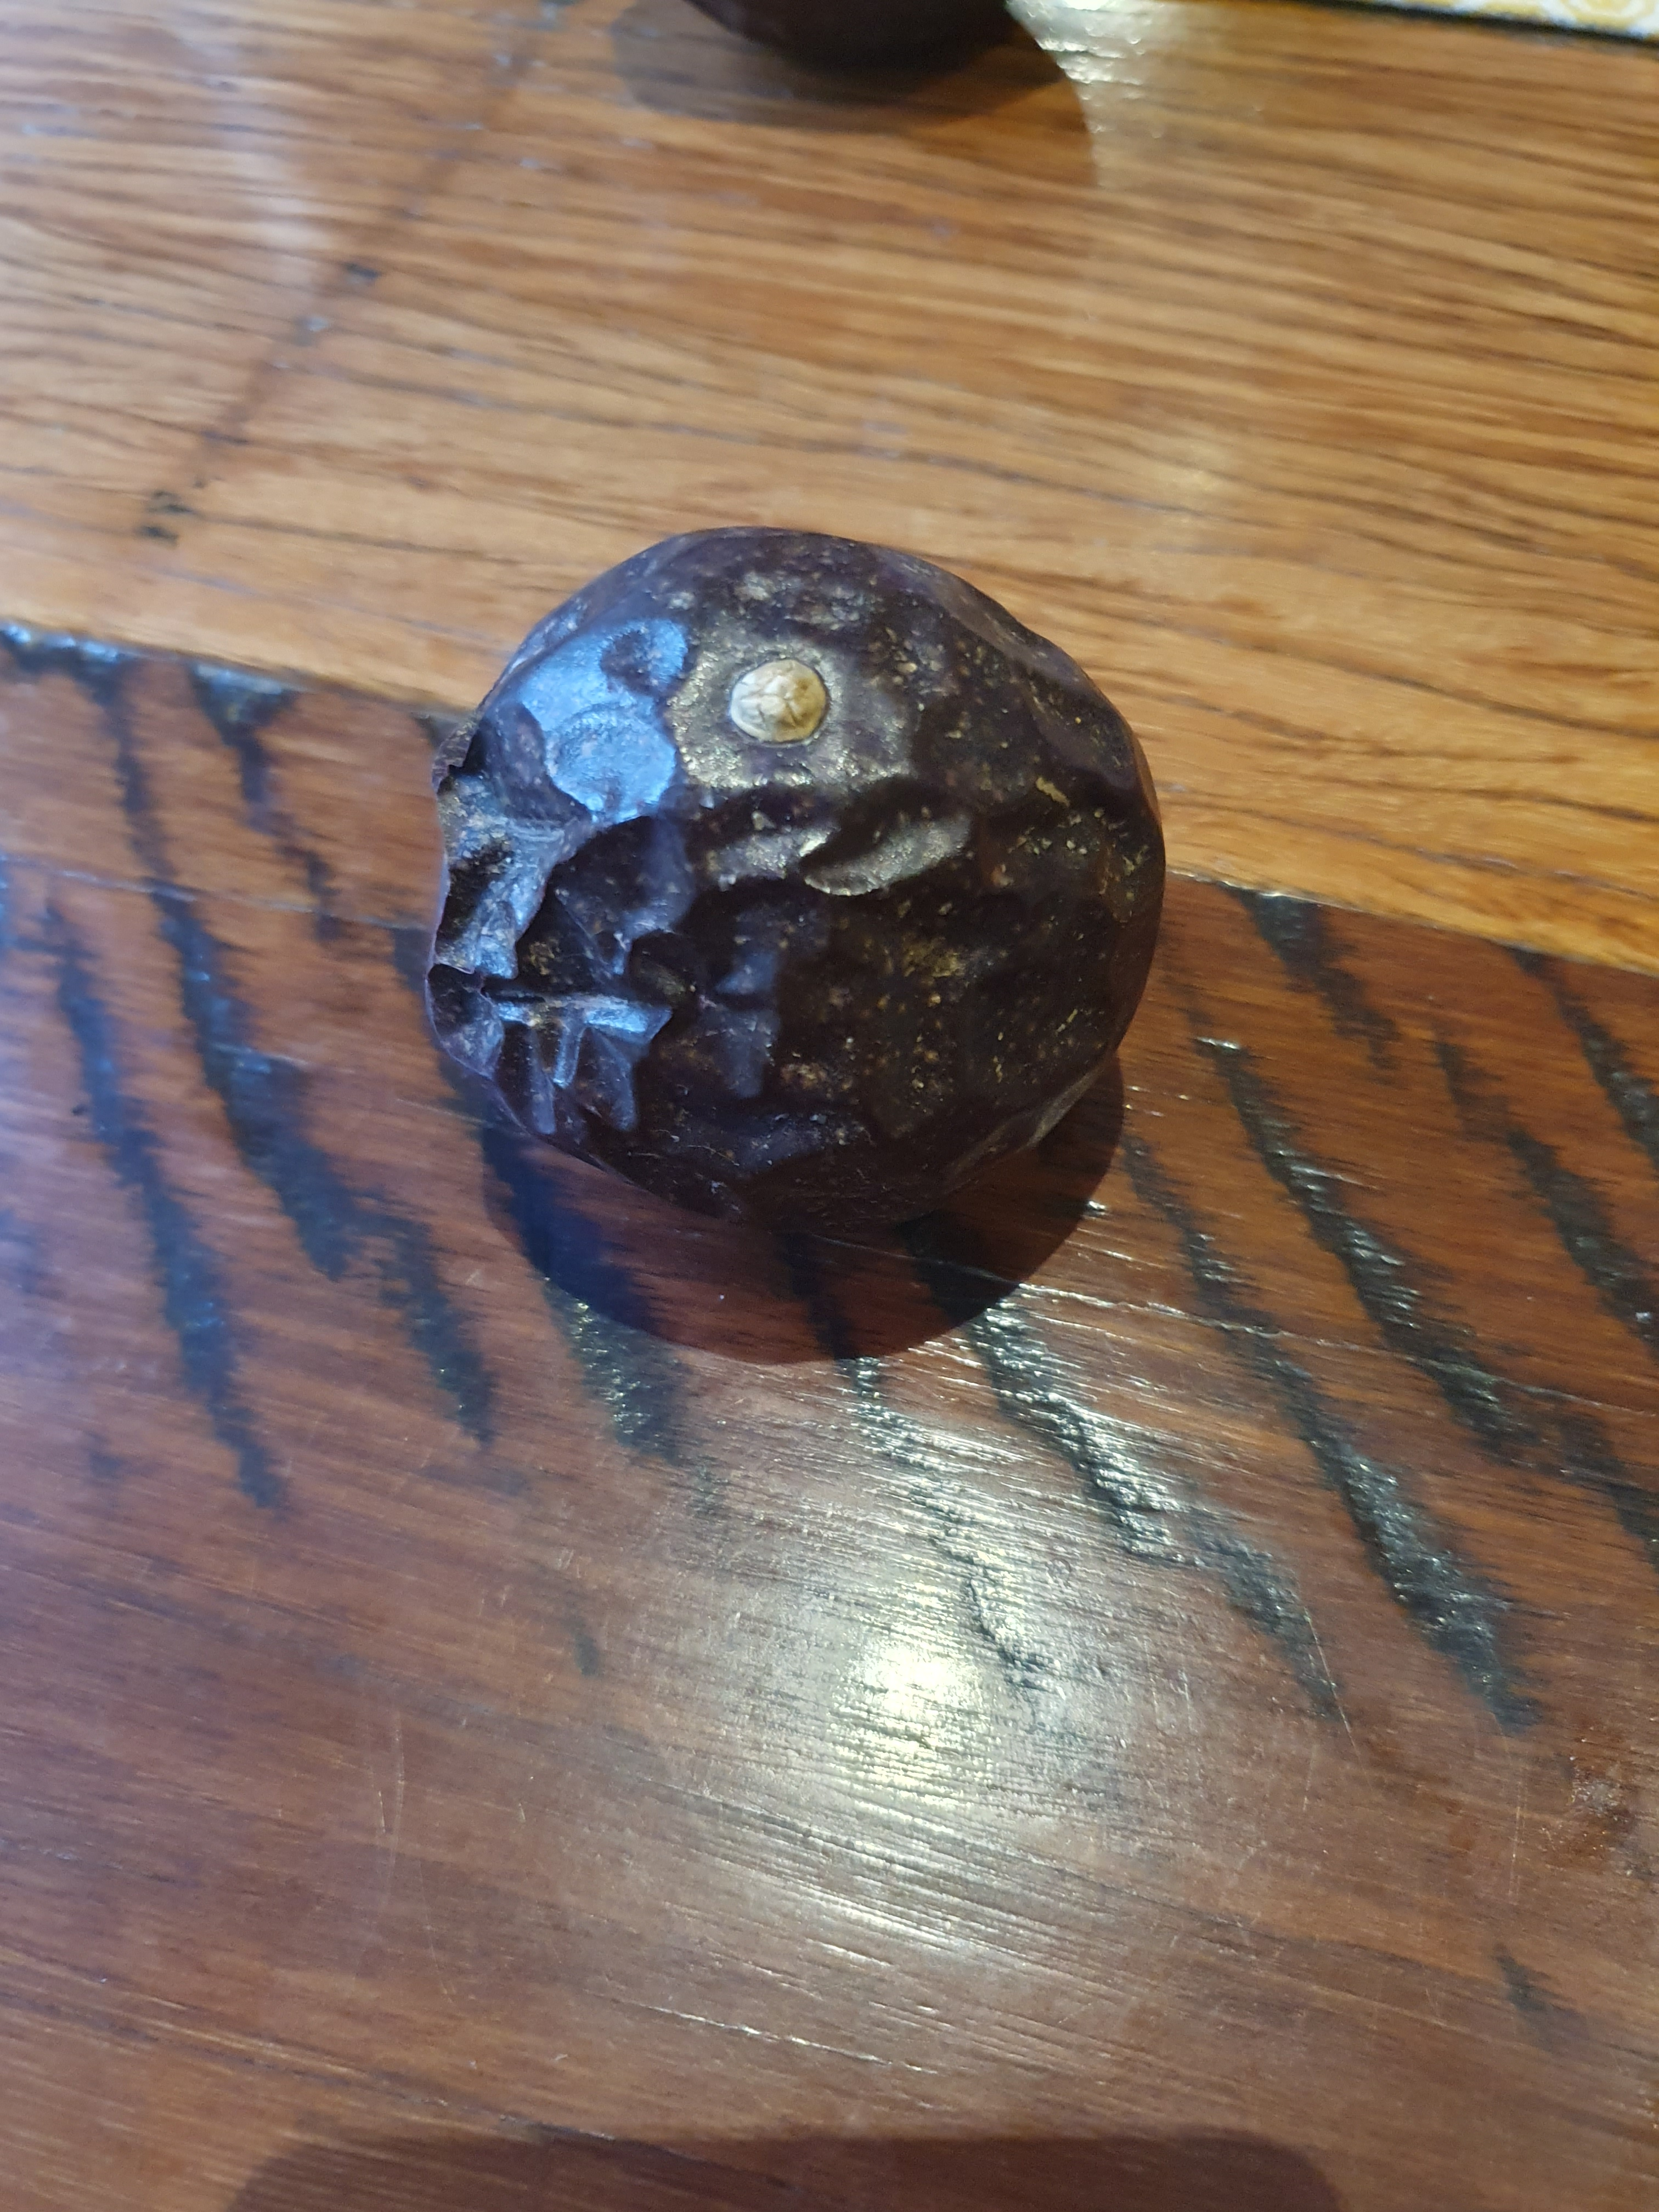passionfruit: (396, 514, 1176, 1237)
